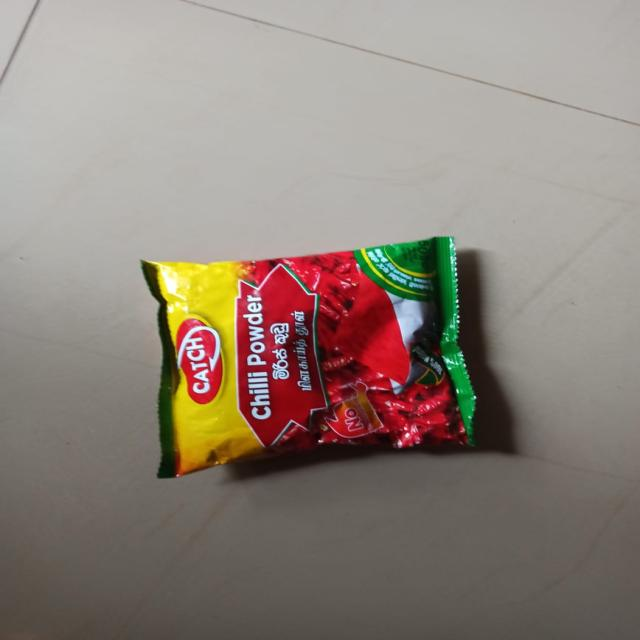Chilli Powder: (113, 254, 517, 497)
